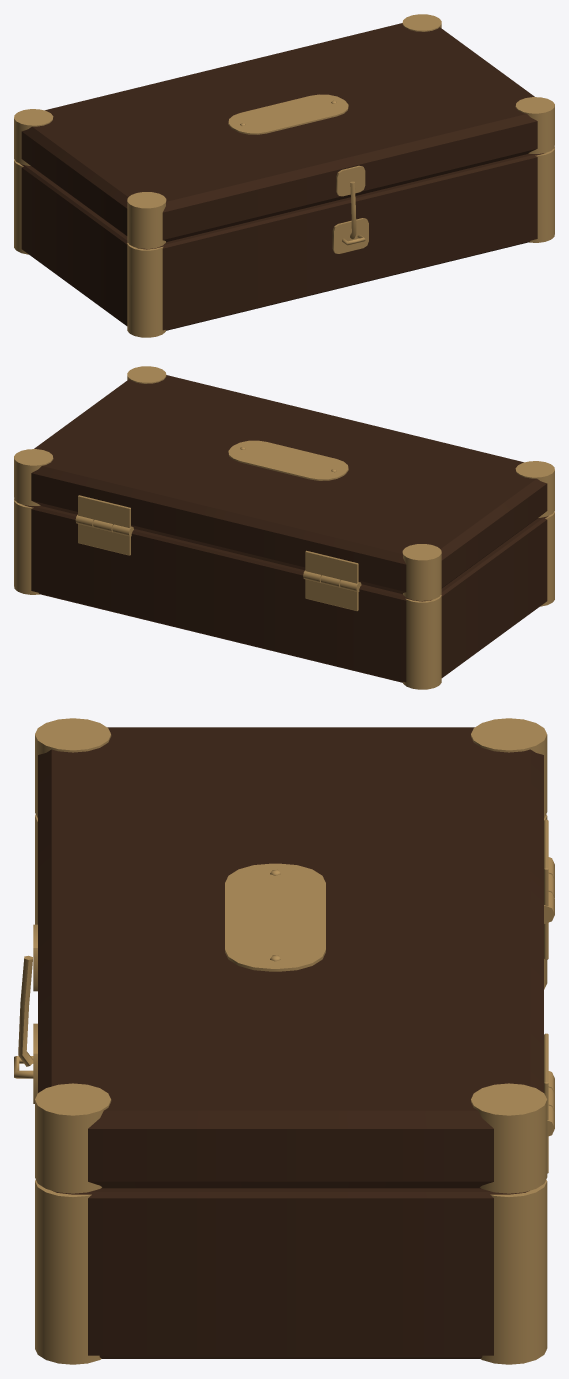
Rendered from lens_case.glb.
3 views of the same model, one above another, from view 1: azimuth 30°, elevation 25°; view 2: azimuth 150°, elevation 25°; view 3: azimuth 270°, elevation 25° (orthographic). The views are drawn at different scales.
Parts seen in each view (by area): view 1: IA_case_lid, case_base; view 2: IA_case_lid, case_base; view 3: IA_case_lid, case_base.
Part boxes in pixels (x1,y1,x2,y2): IA_case_lid: (14,14,554,248); case_base: (14,146,554,337); IA_case_lid: (14,366,554,600); case_base: (14,498,554,689); IA_case_lid: (18,718,554,1193); case_base: (14,814,554,1364).
Size of the model in its own units: 0.2416 by 0.0717 by 0.139.
